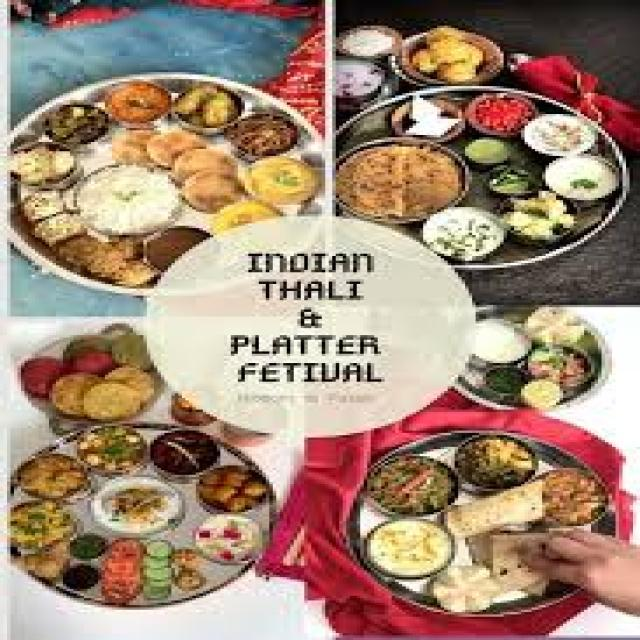papad: (442, 478, 559, 539)
raita: (339, 24, 398, 59)
rice: (74, 166, 180, 234)
roti: (334, 145, 473, 219)
sweet: (359, 519, 462, 580), (89, 478, 191, 537), (180, 513, 269, 563)
veg-fry: (357, 449, 466, 522), (452, 433, 543, 495), (93, 75, 181, 127)
